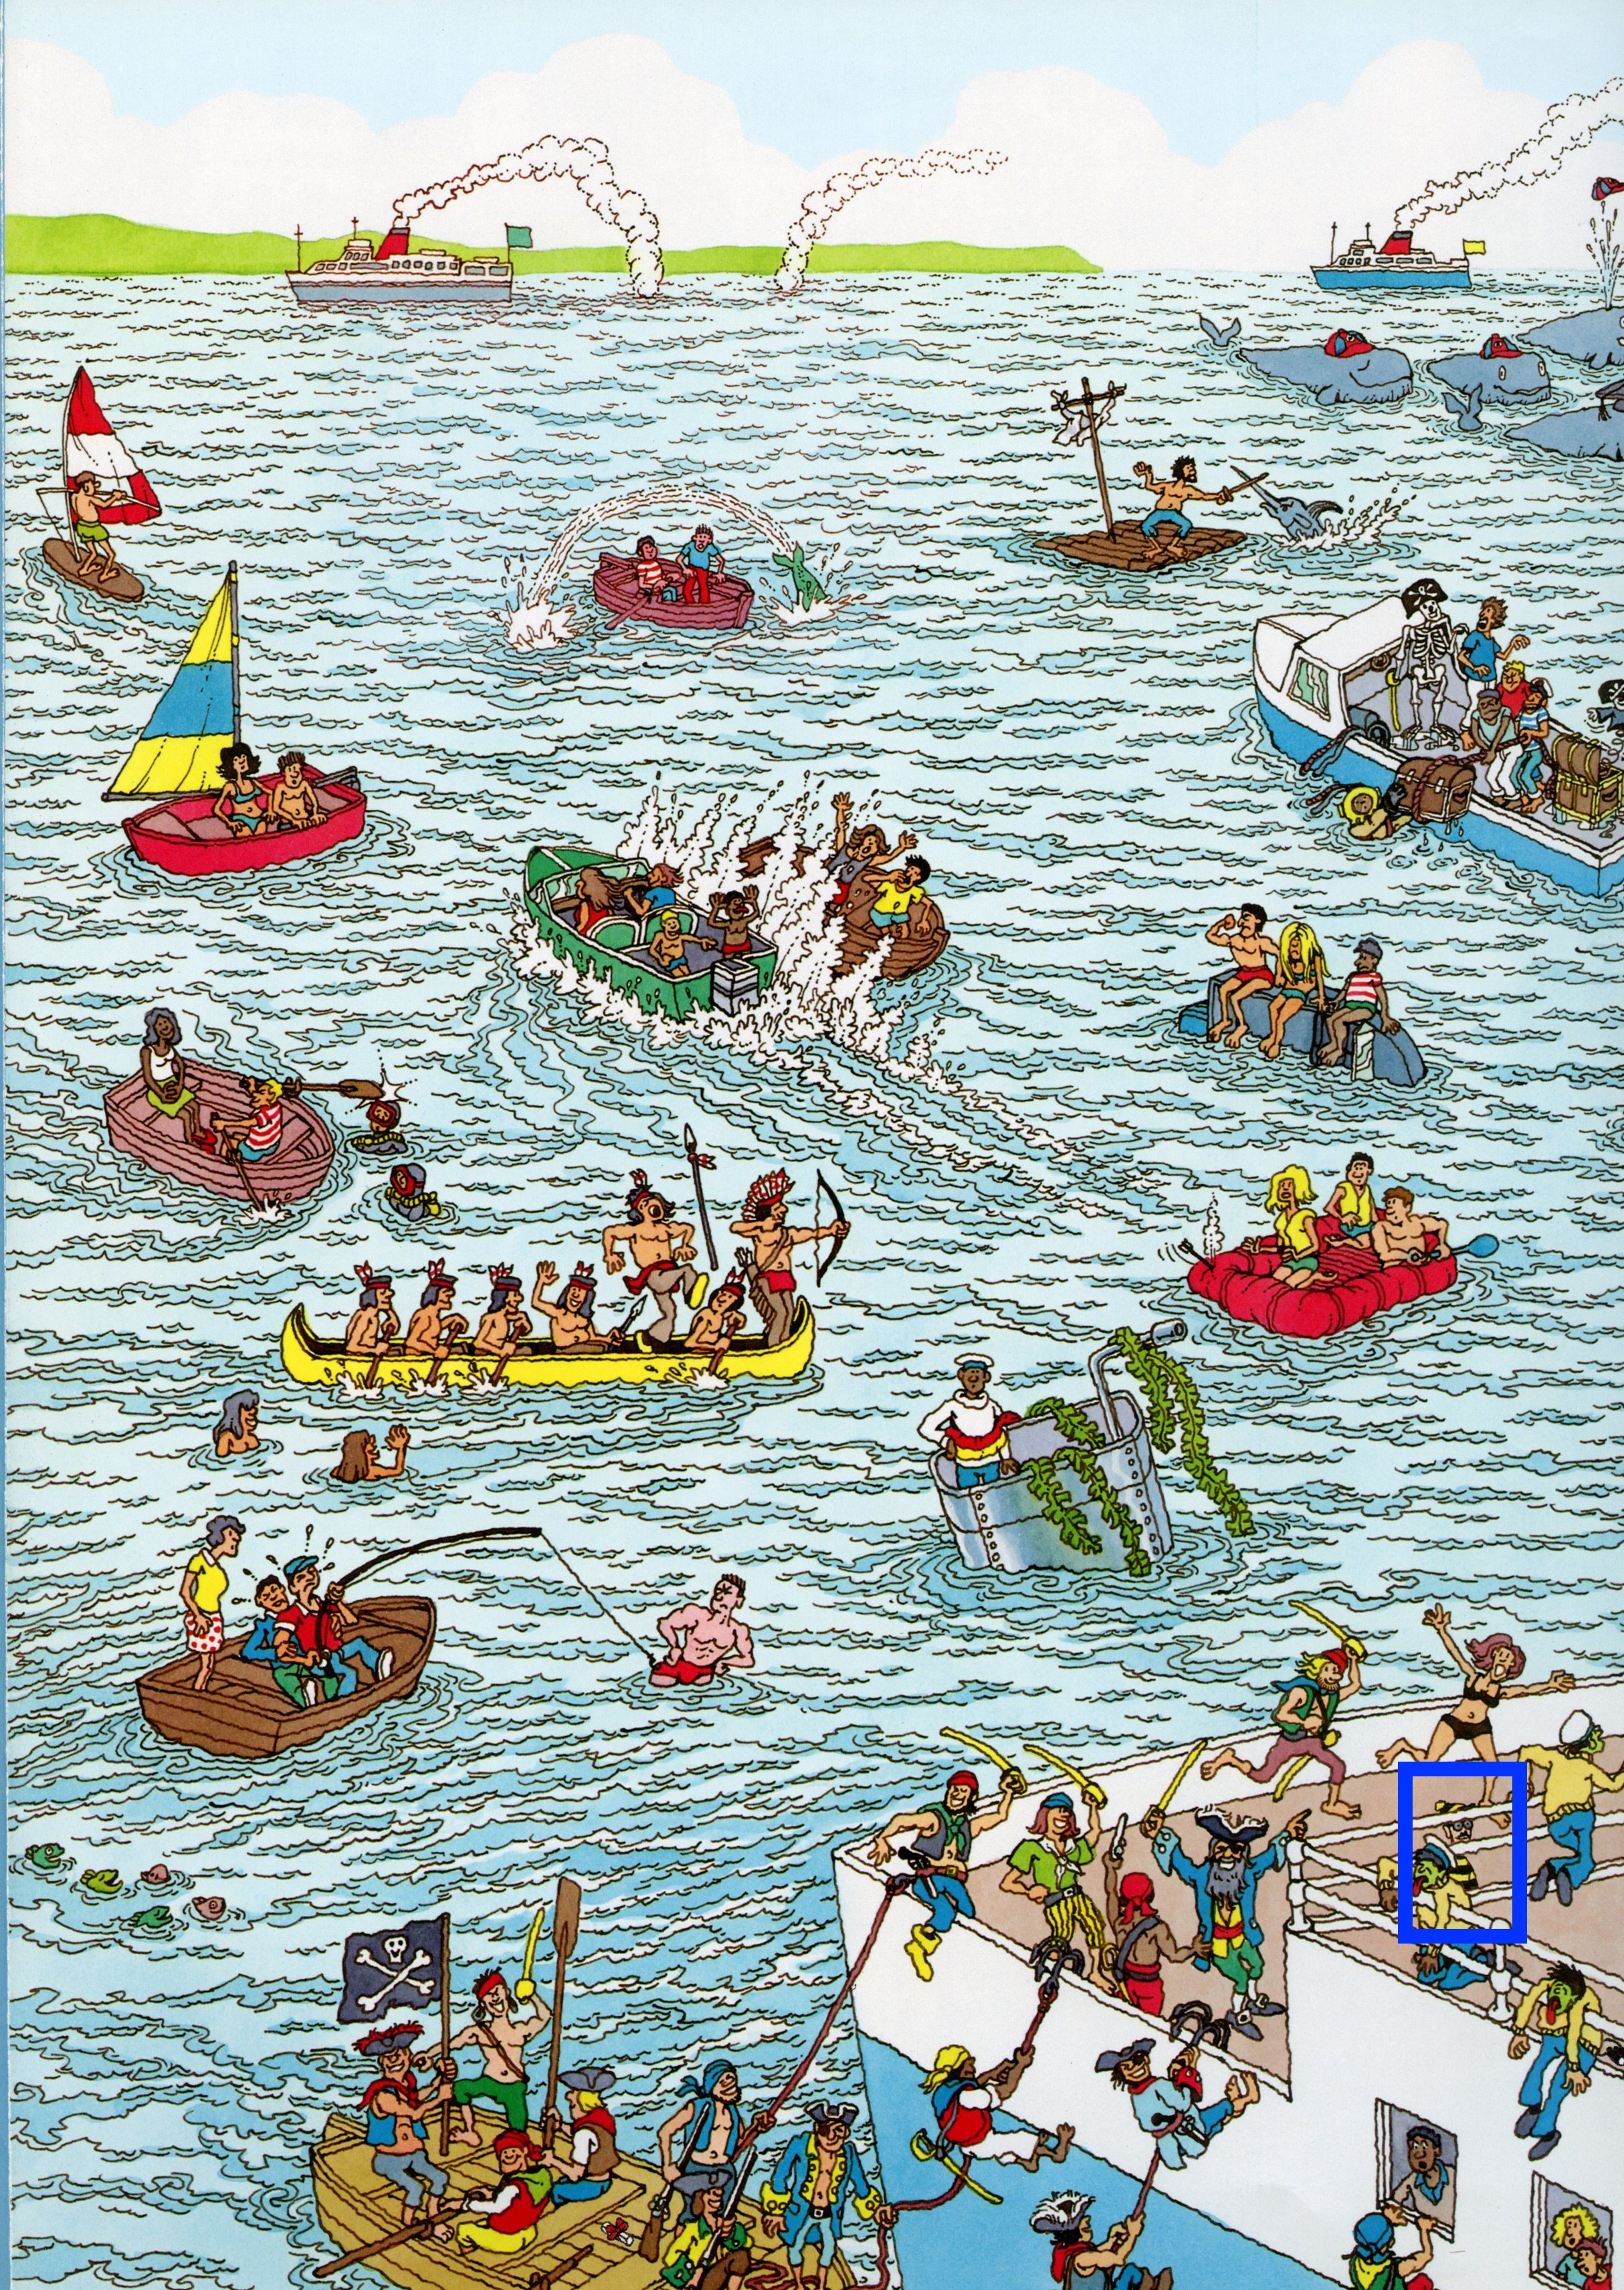odlaw: (1422, 1768, 1522, 1942)
